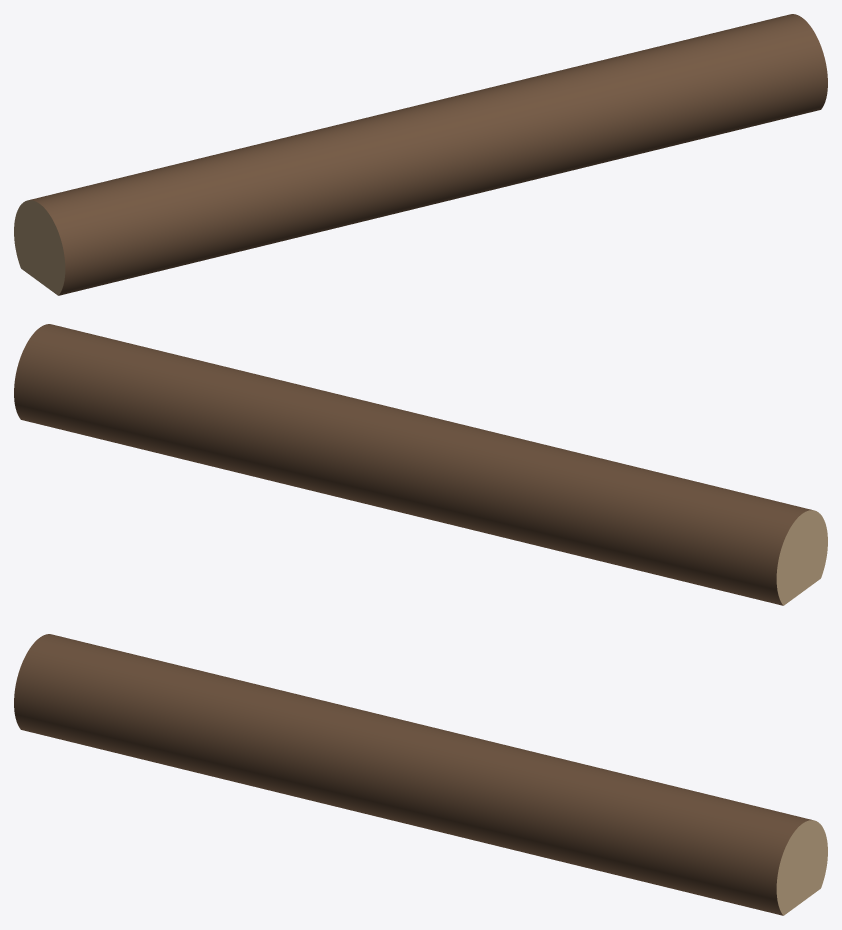
The model's file is SM_RawLog_300_Hewn1.fbx.
The picture shows the model from 3 angles, top to bottom: view 1: azimuth 30°, elevation 25°; view 2: azimuth 150°, elevation 25°; view 3: azimuth 330°, elevation 25°; orthographic projection.
Parts seen in each view (by area): view 1: RawLog_300_Hewn1; view 2: RawLog_300_Hewn1; view 3: RawLog_300_Hewn1.
Boxes of the visible parts, x1=… form: RawLog_300_Hewn1: x1=14, y1=14, x2=827, y2=295; RawLog_300_Hewn1: x1=14, y1=324, x2=827, y2=605; RawLog_300_Hewn1: x1=14, y1=634, x2=827, y2=915.
Size of what is drawn, in the model's own units: 3 by 0.295 by 0.35.
